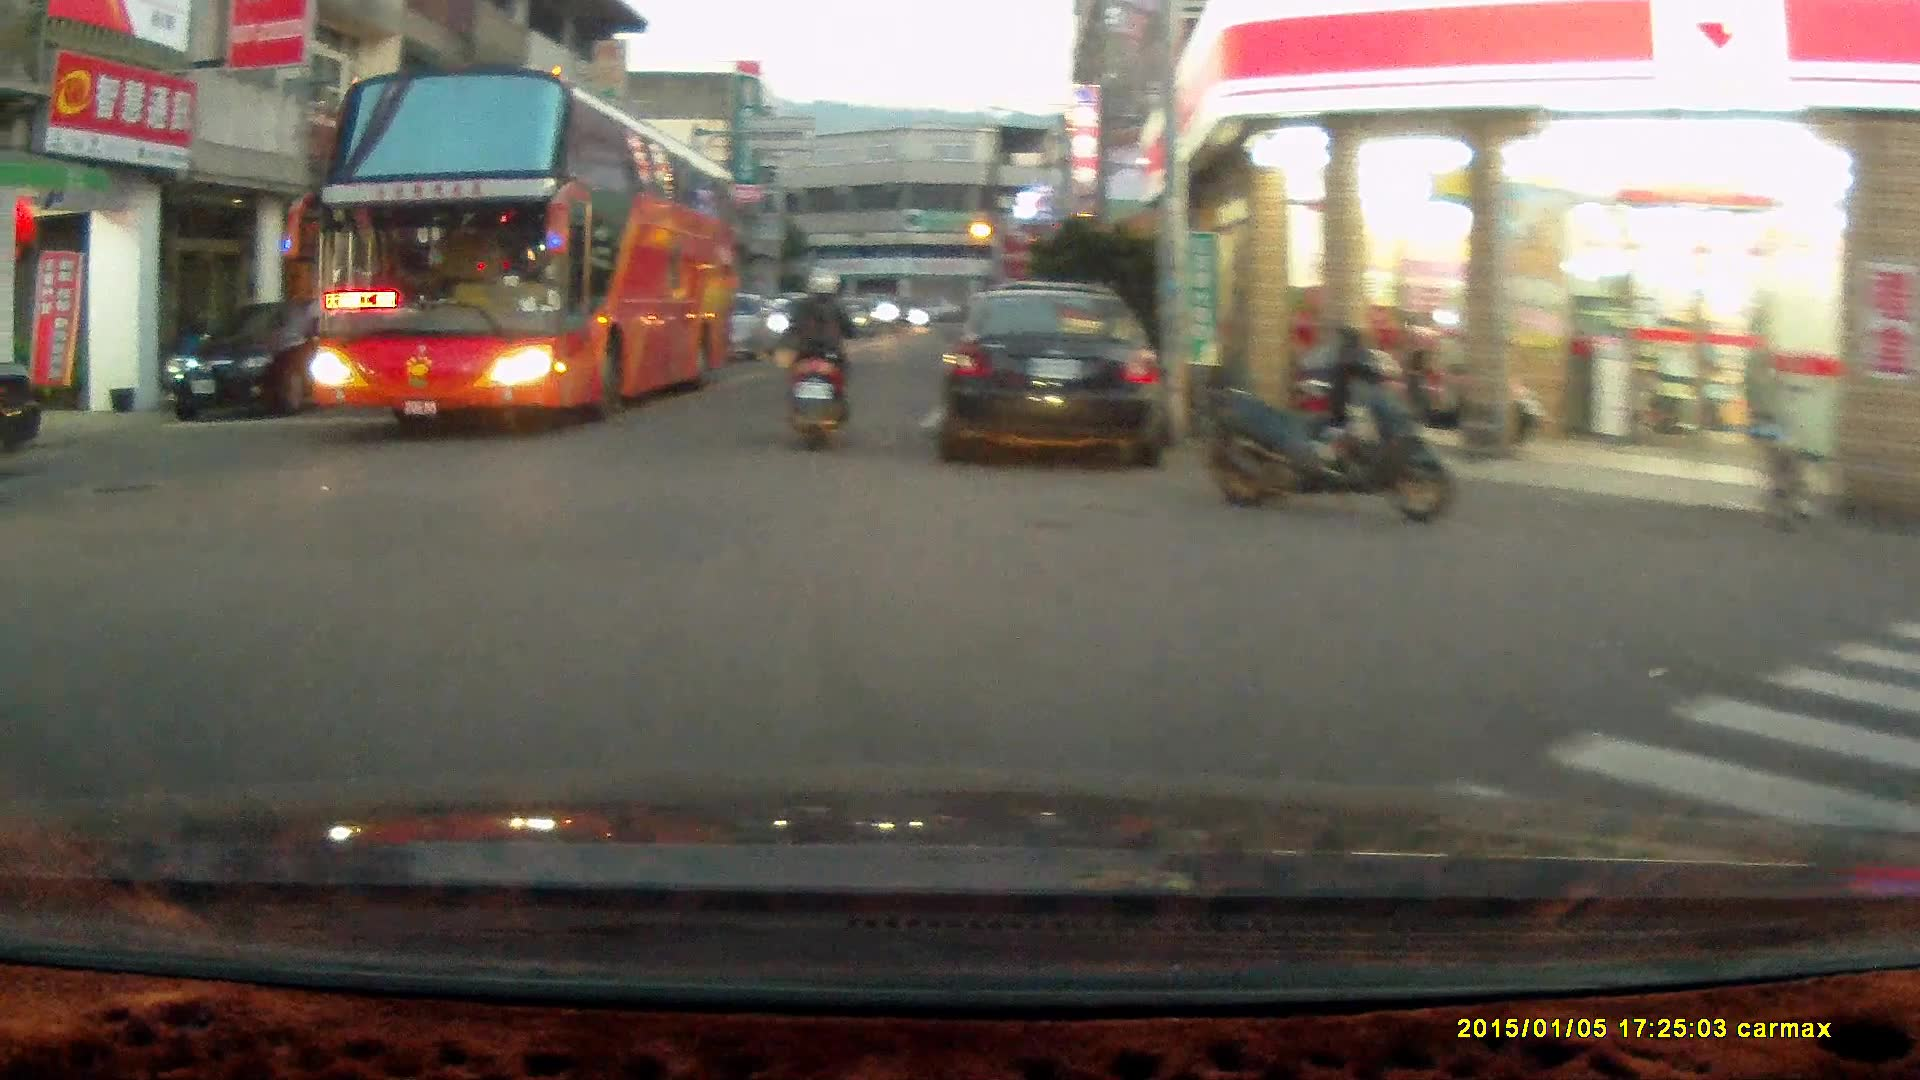rider: (772, 264, 855, 452)
vehicle: (305, 70, 747, 431), (935, 284, 1176, 466), (168, 304, 370, 417)
